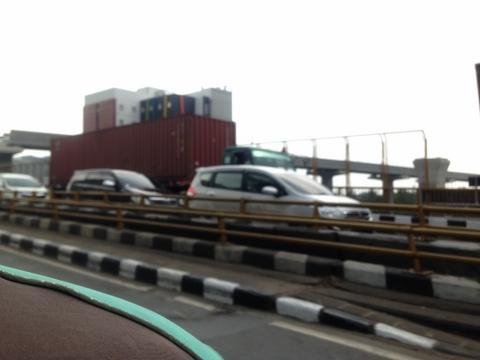mobil: (51, 112, 293, 194), (185, 166, 373, 229), (65, 168, 184, 221), (1, 172, 50, 206)
